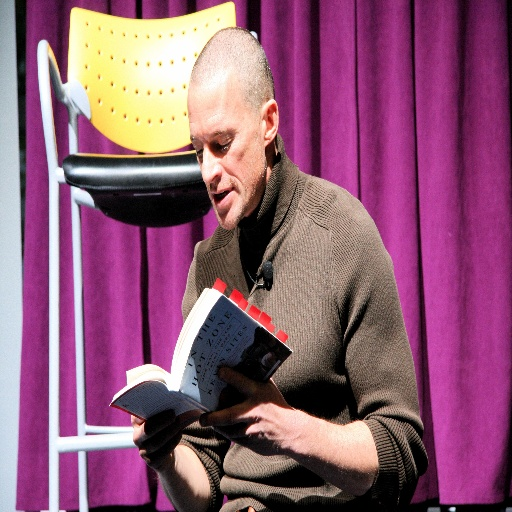hand: (204, 371, 318, 470), (130, 407, 184, 472)
